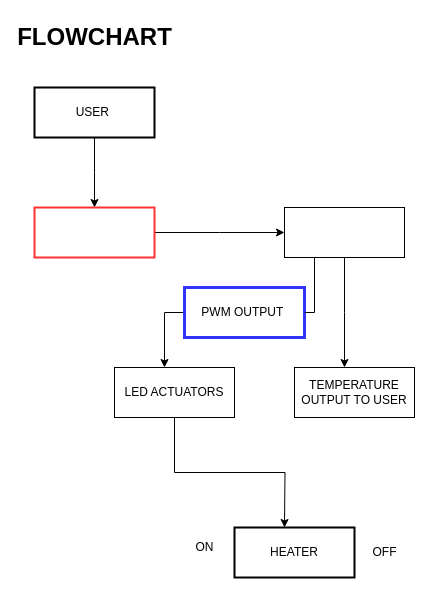
This 432x595 diagram has some shape labels left out. The centre of each missing label's shape, as x and y in pixels:
"SEAT BUTTON ACTIVATION" belongs at point (94, 232).
"TEMPERATURE SENSOR ACTIVATION" belongs at point (344, 232).
